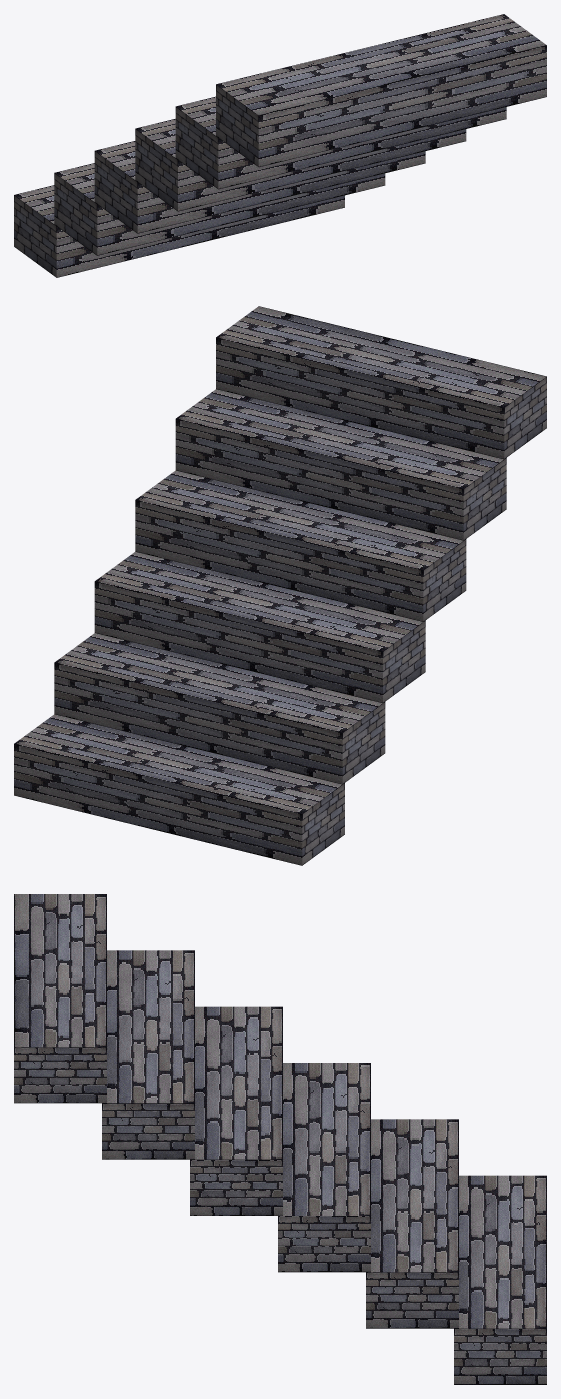
The model's file is escada_de_subida.glb.
3 renders of one model, top to bottom at view 1: azimuth 30°, elevation 25°; view 2: azimuth 150°, elevation 25°; view 3: azimuth 270°, elevation 25°, orthographic. The views are drawn at different scales.
Parts seen in each view (by area): view 1: escada_de_subida; view 2: escada_de_subida; view 3: escada_de_subida.
Part boxes in pixels (left/top/right/bottom): escada_de_subida: left=14, top=14, right=546, bottom=277; escada_de_subida: left=14, top=306, right=546, bottom=865; escada_de_subida: left=14, top=894, right=546, bottom=1384.
Size of the model in its own units: 1.4 by 1.44 by 2.06.
1 material, 1 textured.
